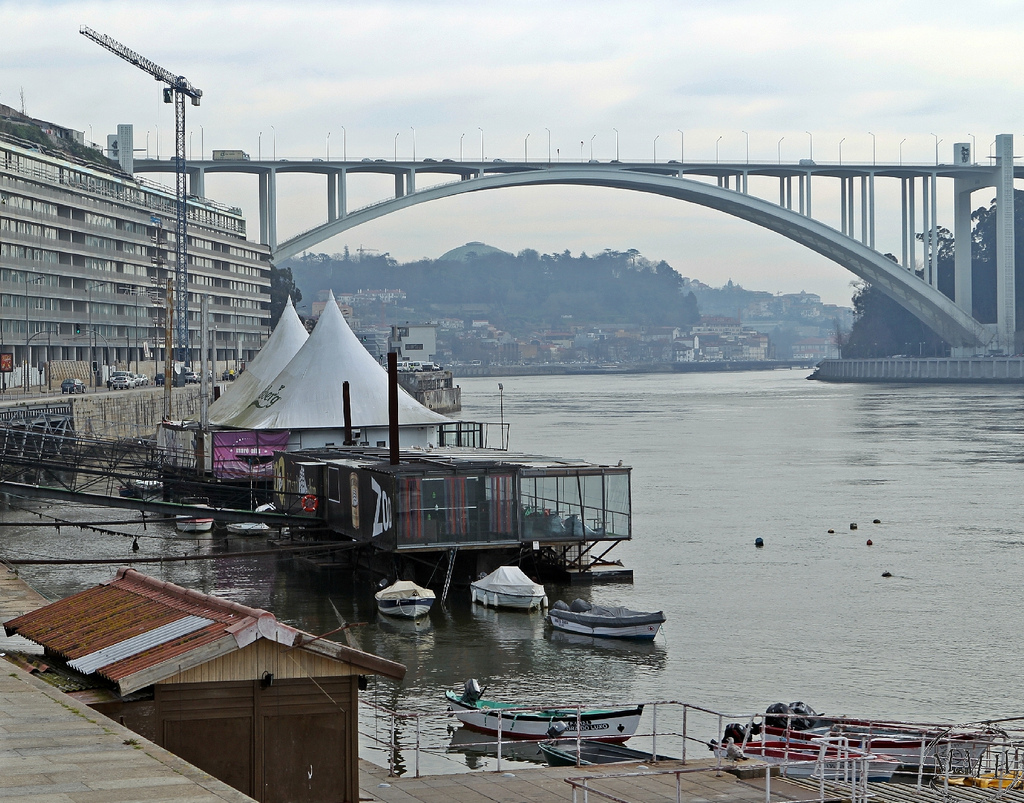arrabida: (111, 122, 1023, 358)
